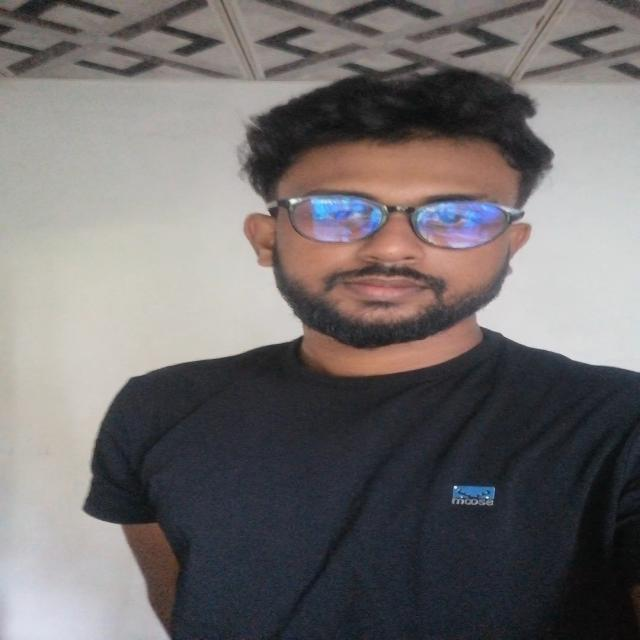Person: (87, 75, 640, 640)
